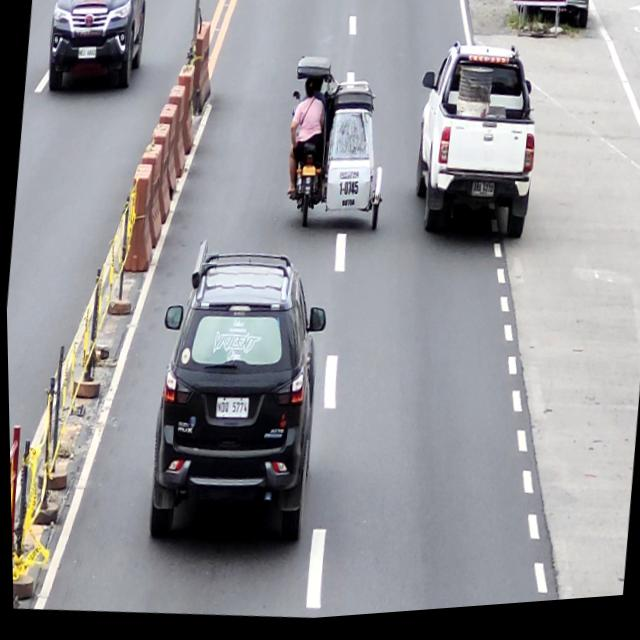Car: (136, 245, 335, 558), (403, 39, 545, 260)
License-Plate: (213, 399, 248, 423), (469, 188, 494, 208), (299, 167, 315, 183)
Tricycle: (279, 57, 397, 238)
